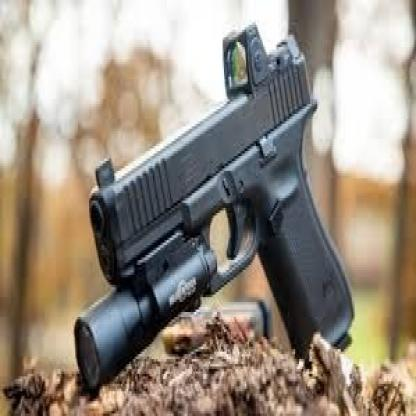Pistol: (72, 18, 354, 397)
